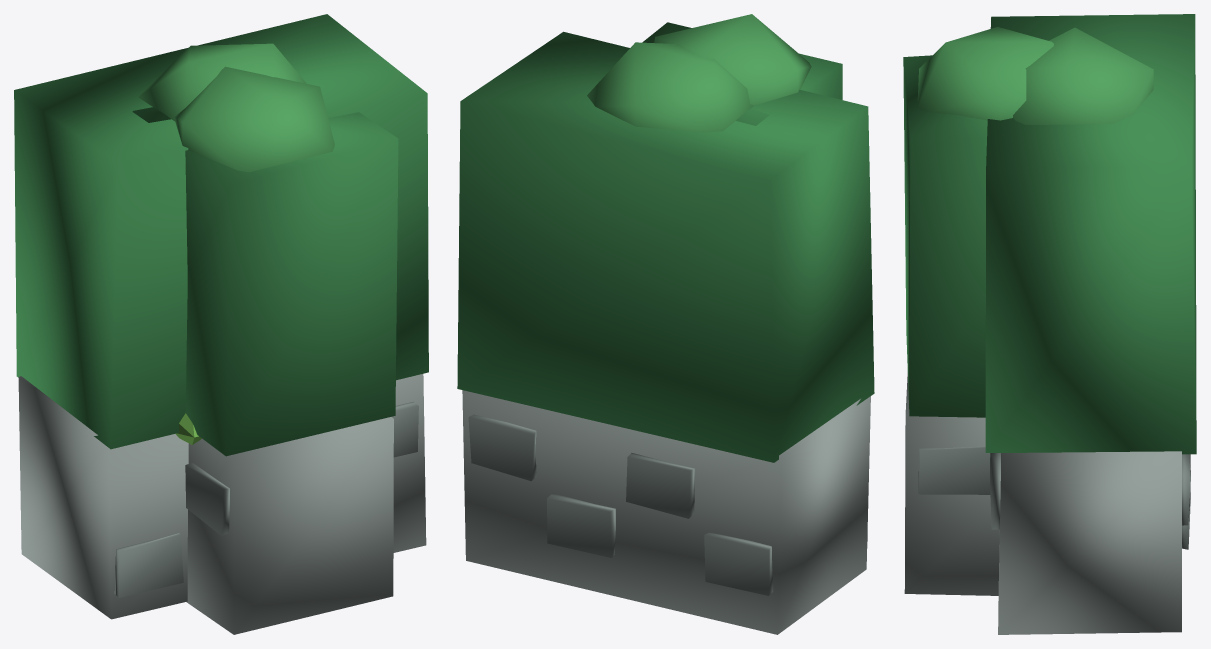
The model's file is stage1_wall_tee.glb.
3 renders of one model, left to right at view 1: azimuth 30°, elevation 25°; view 2: azimuth 150°, elevation 25°; view 3: azimuth 270°, elevation 25°, orthographic.
Visible parts, largest first — view 1: stage1_wall_tee_hedge, stage1_wall_tee_stone, stage1_wall_tee_hedge2, stage1_wall_tee_stone2; view 2: stage1_wall_tee_hedge, stage1_wall_tee_stone, stage1_wall_tee_hedge2, stage1_wall_tee_stone2; view 3: stage1_wall_tee_hedge, stage1_wall_tee_stone, stage1_wall_tee_hedge2, stage1_wall_tee_stone2.
Part boxes in pixels (x1=…): stage1_wall_tee_hedge: x1=14, y1=14, x2=428, y2=456; stage1_wall_tee_stone: x1=18, y1=374, x2=426, y2=634; stage1_wall_tee_hedge2: x1=138, y1=43, x2=334, y2=172; stage1_wall_tee_stone2: x1=114, y1=401, x2=418, y2=597; stage1_wall_tee_hedge: x1=457, y1=22, x2=874, y2=462; stage1_wall_tee_stone: x1=462, y1=390, x2=870, y2=634; stage1_wall_tee_hedge2: x1=587, y1=14, x2=811, y2=132; stage1_wall_tee_stone2: x1=468, y1=414, x2=867, y2=595; stage1_wall_tee_hedge: x1=903, y1=14, x2=1196, y2=454; stage1_wall_tee_stone: x1=904, y1=373, x2=1181, y2=634; stage1_wall_tee_hedge2: x1=917, y1=27, x2=1153, y2=124; stage1_wall_tee_stone2: x1=918, y1=446, x2=1190, y2=549.
Size of the model in its own units: 1.01 by 1.54 by 0.8006.
